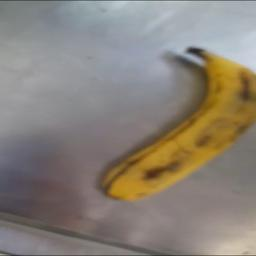Banana Semirotten: (75, 31, 253, 215)
